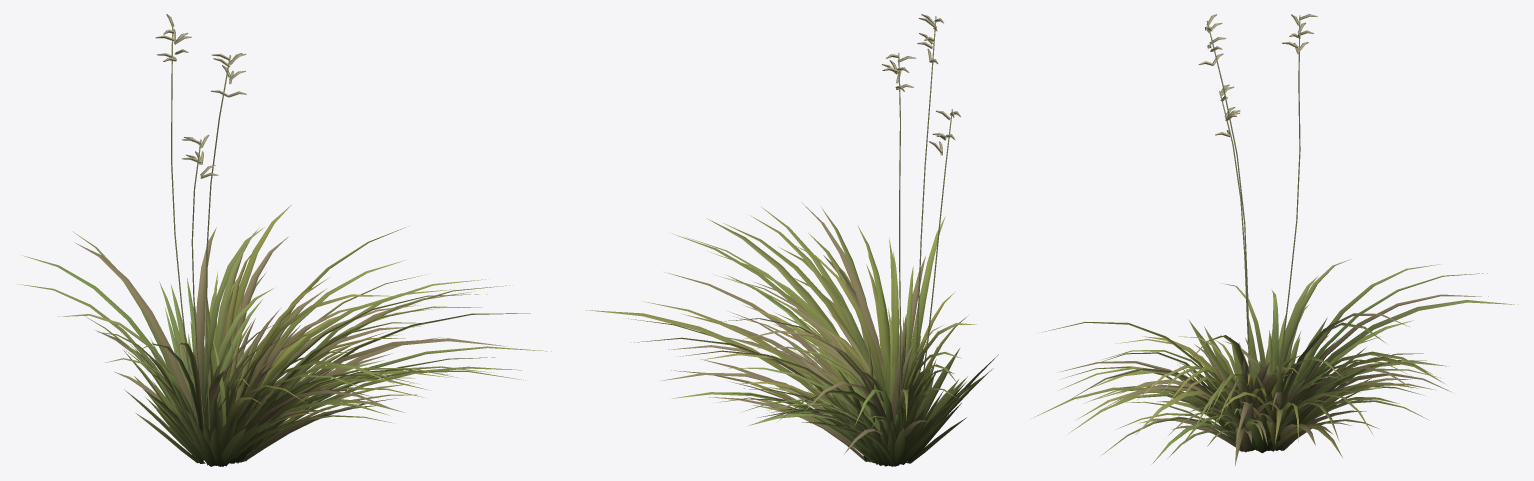
The model's file is eco_grass_tall_lax_LOD0.glb.
3 renders of one model, left to right at view 1: azimuth 30°, elevation 25°; view 2: azimuth 150°, elevation 25°; view 3: azimuth 270°, elevation 25°, orthographic. The views are drawn at different scales.
Parts seen in each view (by area): view 1: eco_grass_tall_lax_LOD0; view 2: eco_grass_tall_lax_LOD0; view 3: eco_grass_tall_lax_LOD0.
Boxes of the visible parts, box(x1,y1,x2,y2) form: eco_grass_tall_lax_LOD0: box(18, 14, 551, 466); eco_grass_tall_lax_LOD0: box(585, 14, 998, 466); eco_grass_tall_lax_LOD0: box(1031, 14, 1518, 465).
Bounding box in the file's own units: 0.9362 × 1.03 × 1.09.
